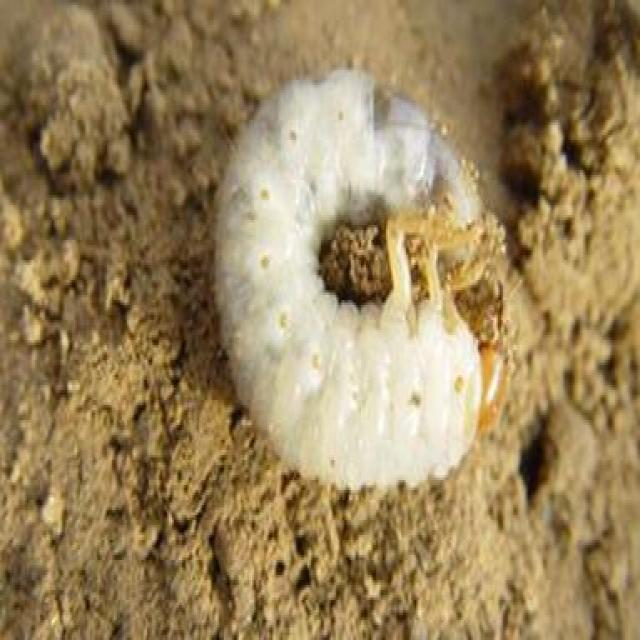Grub-Adult-: (195, 43, 541, 532)
